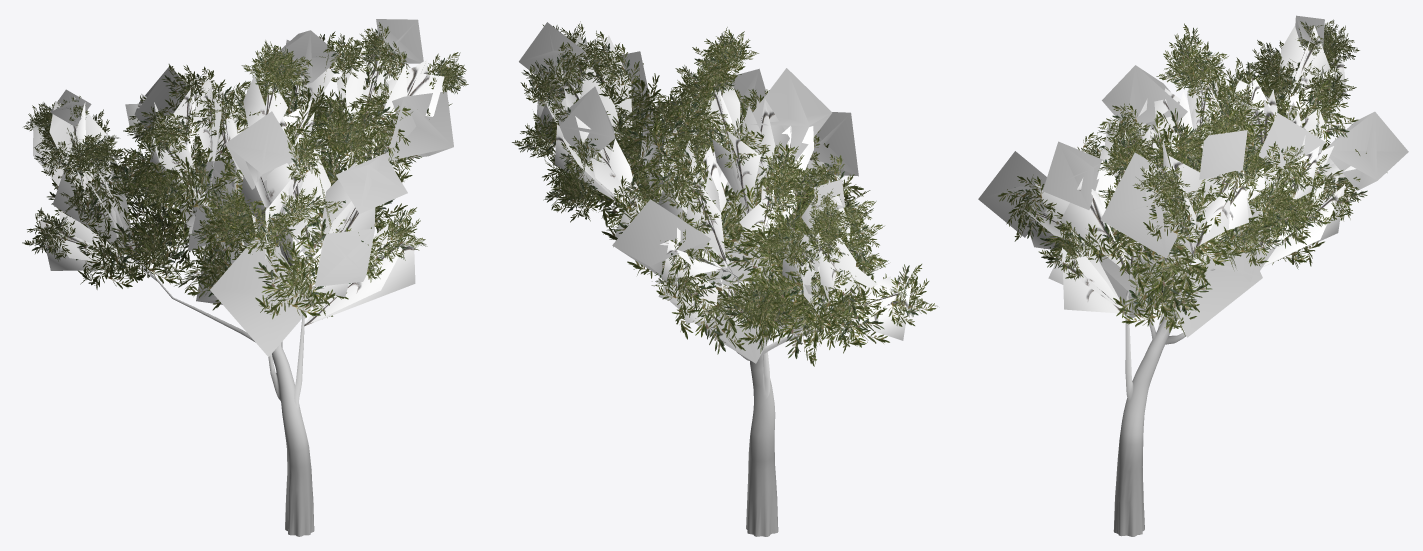
File: Type_2_3.fbx
3 views of the same model, side by side, from view 1: azimuth 30°, elevation 25°; view 2: azimuth 150°, elevation 25°; view 3: azimuth 270°, elevation 25° (orthographic). The views are drawn at different scales.
Parts seen in each view (by area): view 1: Type_2_3; view 2: Type_2_3; view 3: Type_2_3.
Part boxes in pixels (x1,y1,x2,y2): Type_2_3: (22,19,468,536); Type_2_3: (512,21,937,536); Type_2_3: (978,15,1408,536).
Bounding box in the file's own units: 11.1 × 9.38 × 12.22.
